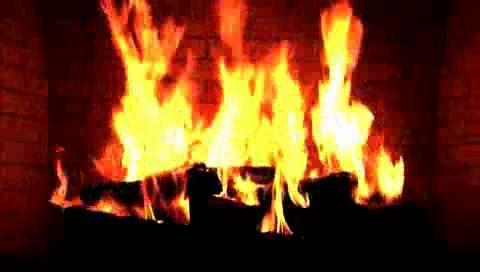fire: (47, 0, 417, 230), (75, 0, 367, 44)
